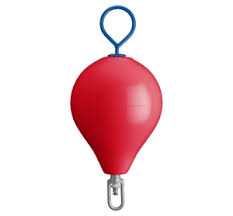buoy: (69, 56, 162, 174)
